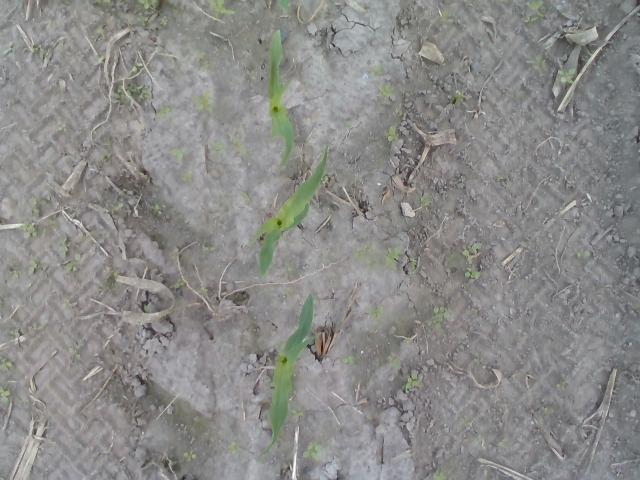Maize: (253, 144, 331, 276), (262, 290, 316, 454), (265, 30, 295, 168)
Weeds: (350, 244, 400, 270), (112, 82, 150, 108), (207, 0, 241, 21), (190, 90, 214, 112), (527, 0, 545, 25), (526, 54, 548, 74), (403, 370, 423, 392), (18, 220, 38, 240), (302, 441, 322, 461), (193, 48, 210, 71), (230, 137, 248, 157), (30, 198, 50, 216), (558, 66, 578, 84), (432, 306, 448, 328), (376, 80, 396, 97), (462, 264, 482, 280), (56, 238, 71, 258), (170, 147, 190, 162), (462, 241, 480, 256), (95, 153, 114, 167), (414, 194, 433, 208), (198, 238, 217, 252), (134, 0, 160, 10), (438, 8, 454, 24), (0, 356, 15, 373), (366, 306, 384, 320), (64, 346, 82, 360), (0, 382, 11, 404), (62, 258, 78, 273), (384, 126, 399, 142), (28, 257, 42, 274), (156, 103, 170, 119), (208, 141, 225, 154), (58, 236, 68, 258), (132, 14, 150, 26), (178, 168, 192, 183), (432, 467, 448, 480), (368, 64, 385, 76), (388, 352, 400, 369), (148, 202, 162, 216), (452, 90, 466, 104), (284, 256, 296, 272), (182, 450, 198, 462), (227, 440, 240, 454), (8, 269, 22, 282), (276, 0, 292, 11), (80, 230, 97, 240), (6, 326, 21, 337), (167, 1, 177, 17), (576, 248, 592, 258), (31, 322, 47, 332), (110, 202, 124, 213), (96, 8, 112, 17), (102, 136, 114, 148), (410, 255, 418, 273), (342, 353, 354, 365), (62, 298, 74, 310), (0, 46, 14, 56), (290, 406, 304, 416), (175, 422, 187, 433), (95, 51, 105, 64), (57, 119, 67, 132), (130, 63, 144, 72), (556, 378, 565, 392), (445, 258, 454, 272), (167, 250, 178, 261), (240, 190, 250, 202), (176, 277, 186, 289), (105, 275, 114, 288), (46, 215, 56, 225), (30, 44, 40, 54), (160, 16, 170, 26), (198, 286, 208, 296), (327, 0, 337, 10), (464, 420, 474, 430), (39, 227, 49, 237), (496, 441, 510, 448), (95, 0, 112, 5), (287, 287, 296, 295), (143, 304, 150, 313), (403, 336, 410, 344), (321, 176, 328, 183), (544, 407, 549, 416), (90, 128, 96, 134), (304, 159, 306, 166)
